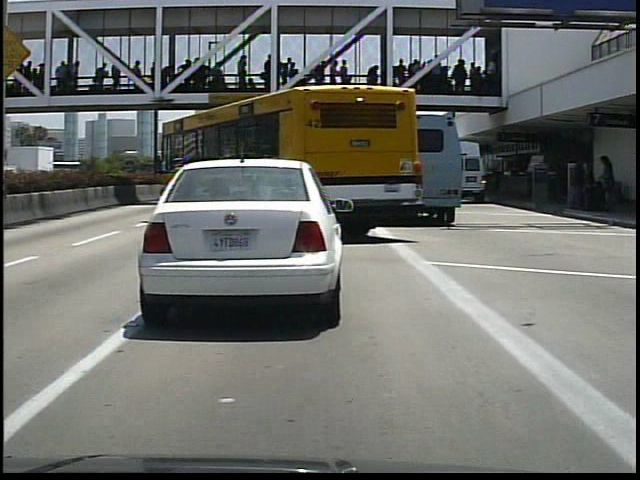person: (567, 153, 597, 214), (597, 151, 625, 215)
